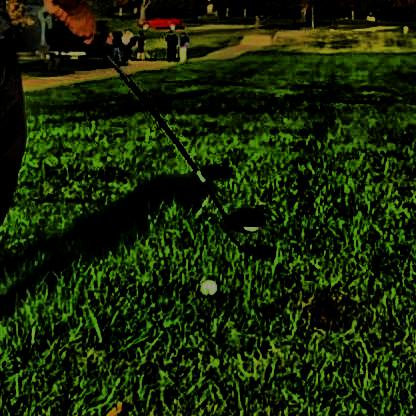golfball: (197, 276, 216, 293)
